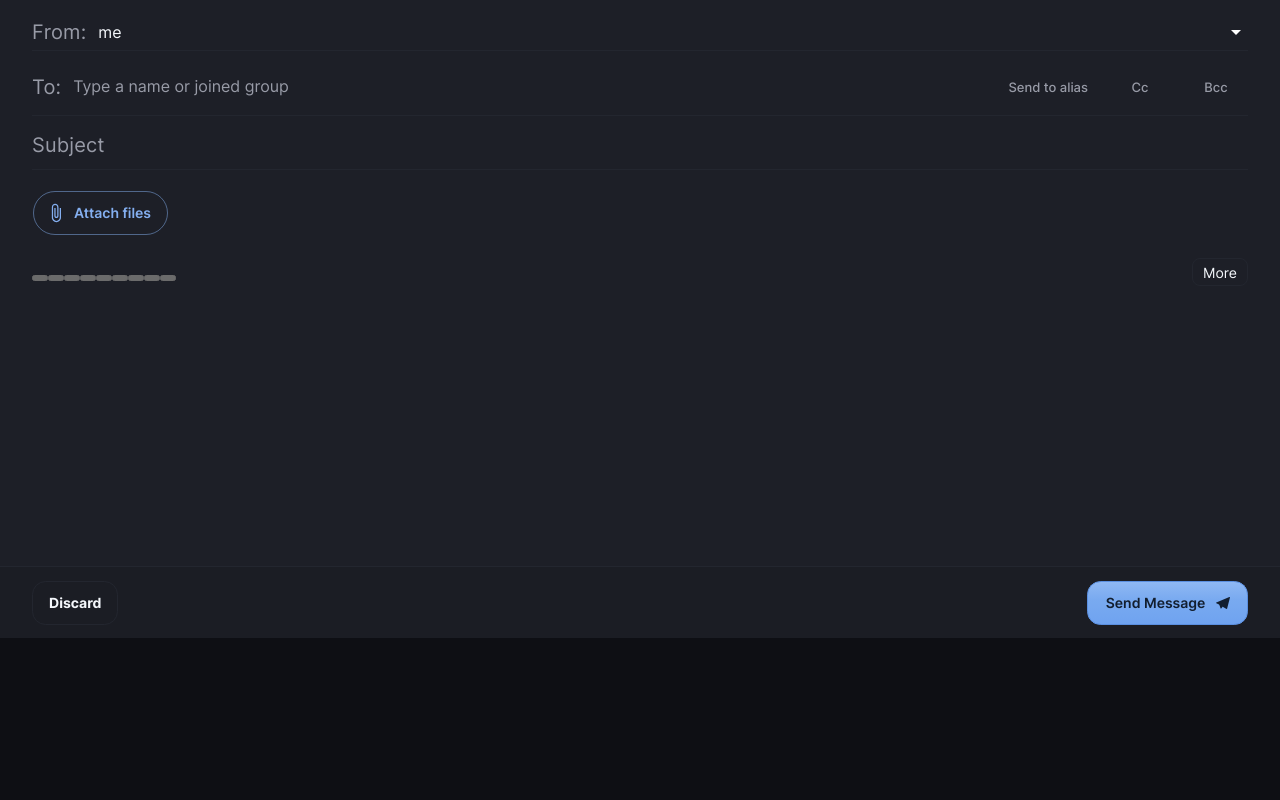
Compose: what Send to alias, Cc and Bcc mean › Cc: the tooltip opens on hover and describes the button
Hover over the button "Cc": (1140, 87) [1108,65,1172,109]
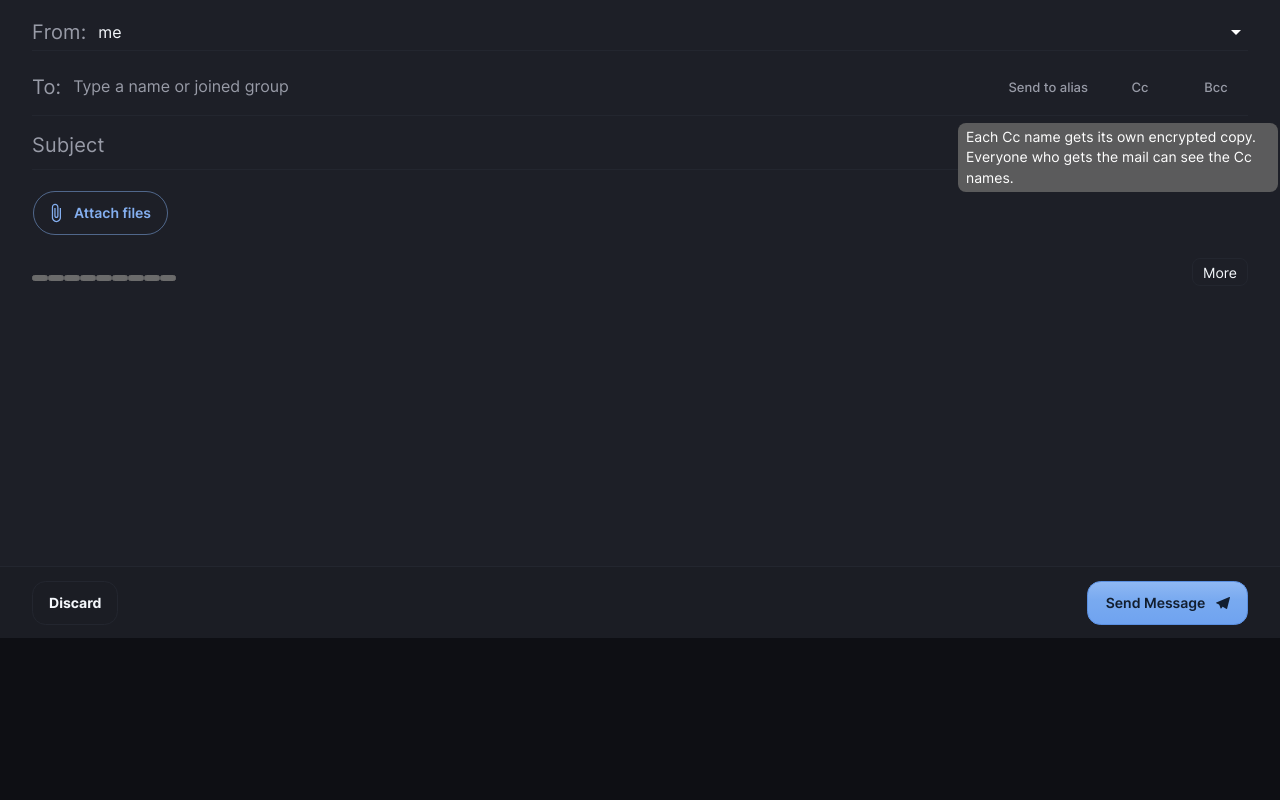
Expected: the tooltip shows "Each Cc name gets its own encrypted copy. Everyone who gets the mail can see the Cc names.", [966,128,1256,186]
